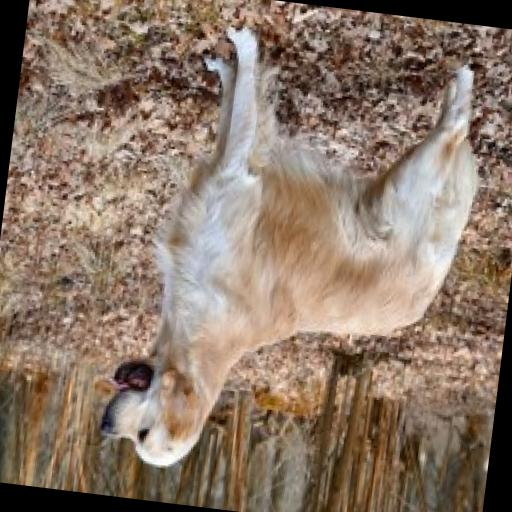dog: (91, 12, 496, 504)
